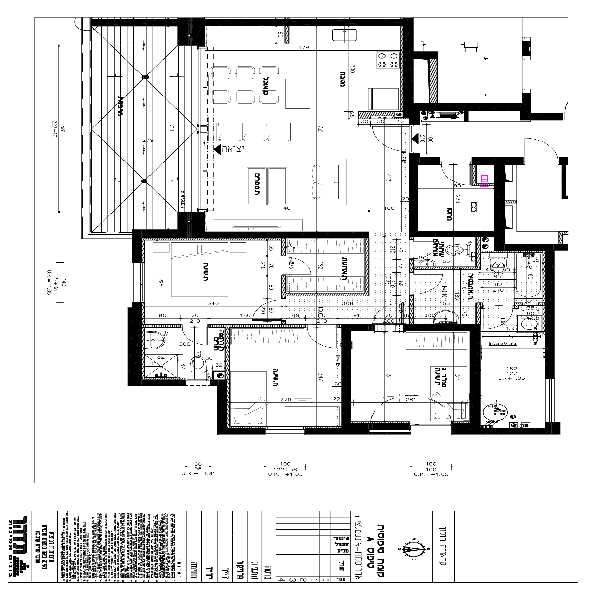door: (377, 296, 414, 336), (370, 121, 413, 155), (519, 134, 562, 164), (480, 301, 517, 334), (412, 268, 452, 297), (305, 326, 342, 357), (252, 295, 288, 324), (438, 160, 468, 192), (180, 322, 215, 349), (281, 252, 315, 277)
room: (174, 14, 399, 237), (133, 229, 375, 335), (337, 319, 479, 440), (217, 326, 351, 435), (407, 156, 503, 244)
wall: (91, 16, 414, 27), (541, 252, 559, 378), (135, 228, 369, 236), (400, 18, 415, 116), (469, 330, 482, 431), (128, 306, 144, 383), (341, 324, 352, 433), (493, 163, 506, 251), (407, 102, 520, 111), (216, 381, 232, 437), (409, 147, 418, 238), (407, 322, 487, 332), (507, 242, 570, 254), (415, 229, 490, 239), (174, 24, 205, 48), (214, 428, 266, 437), (527, 114, 563, 122), (524, 92, 533, 123)
window: (133, 264, 145, 301), (269, 426, 303, 436)
